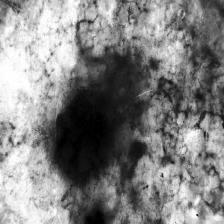Benign Marking or Mole: (45, 88, 143, 224)
